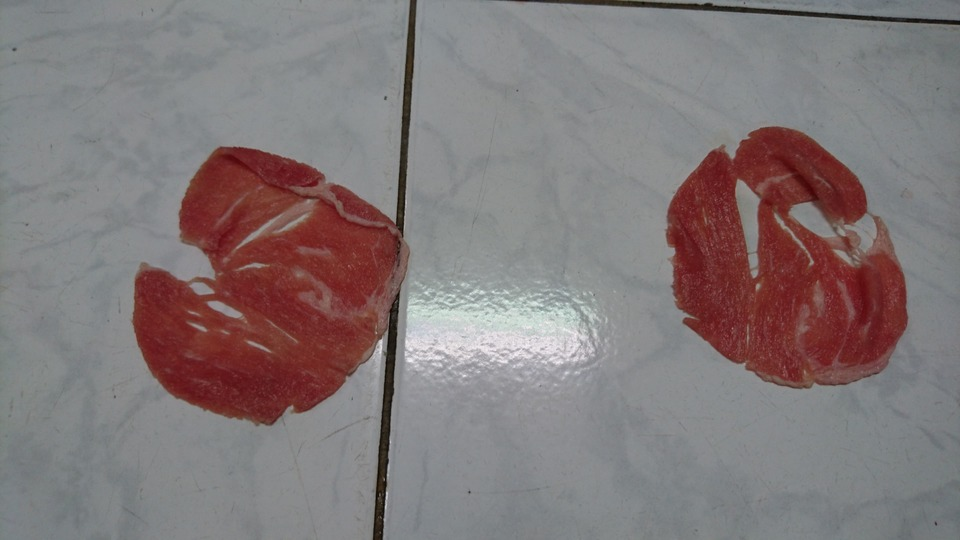restructured meat: (107, 147, 434, 439), (625, 110, 912, 395)
